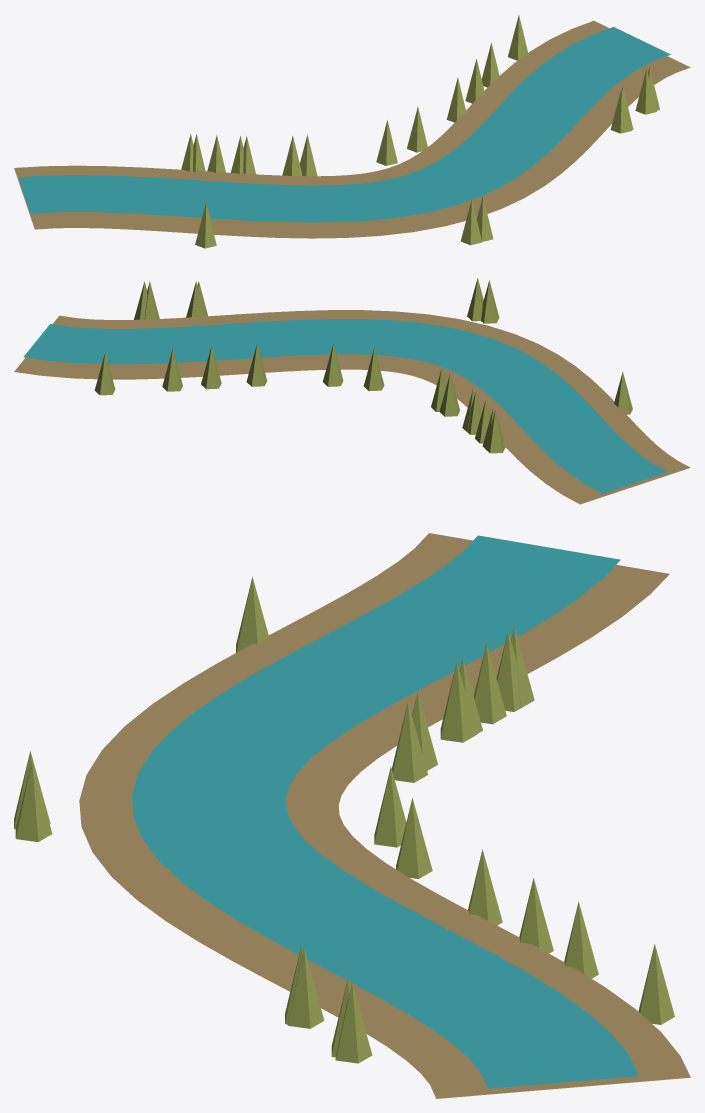
Rendered from FEATURE_FLOODPLAINS_PLAINS_v02.fbx.
3 views of the same model, one above another, from view 1: azimuth 30°, elevation 25°; view 2: azimuth 150°, elevation 25°; view 3: azimuth 270°, elevation 25° (orthographic). The views are drawn at different scales.
Visible parts, largest first — view 1: River_channel.008, Alluvial_banks.008, Riparian_grass.160, Riparian_grass.162, Riparian_grass.163, Riparian_grass.166, Riparian_grass.170, Riparian_grass.169, Riparian_grass.176, Riparian_grass.167, Riparian_grass.173, Riparian_grass.172 (+4 smaller); view 2: River_channel.008, Alluvial_banks.008, Riparian_grass.176, Riparian_grass.161, Riparian_grass.169, Riparian_grass.167, Riparian_grass.172, Riparian_grass.173, Riparian_grass.170, Riparian_grass.164, Riparian_grass.162, Riparian_grass.175 (+2 smaller); view 3: River_channel.008, Alluvial_banks.008, Riparian_grass.175, Riparian_grass.171, Riparian_grass.165, Riparian_grass.168, Riparian_grass.169, Riparian_grass.174, Riparian_grass.176, Riparian_grass.170, Riparian_grass.177, Riparian_grass.172 (+5 smaller).
Boxes of the visible parts, left/top/right/bottom form: River_channel.008: left=18, top=27, right=670, bottom=222; Alluvial_banks.008: left=14, top=21, right=690, bottom=238; Riparian_grass.160: left=610, top=87, right=632, bottom=133; Riparian_grass.162: left=460, top=199, right=482, bottom=245; Riparian_grass.163: left=635, top=69, right=656, bottom=114; Riparian_grass.166: left=195, top=203, right=216, bottom=248; Riparian_grass.170: left=376, top=120, right=397, bottom=165; Riparian_grass.169: left=407, top=107, right=427, bottom=152; Riparian_grass.176: left=508, top=15, right=527, bottom=60; Riparian_grass.167: left=446, top=77, right=466, bottom=122; Riparian_grass.173: left=465, top=59, right=485, bottom=103; Riparian_grass.172: left=481, top=42, right=499, bottom=87; River_channel.008: left=23, top=319, right=667, bottom=493; Alluvial_banks.008: left=14, top=310, right=690, bottom=504; Riparian_grass.176: left=94, top=352, right=115, bottom=395; Riparian_grass.161: left=439, top=373, right=459, bottom=416; Riparian_grass.169: left=323, top=343, right=343, bottom=386; Riparian_grass.167: left=246, top=343, right=267, bottom=386; Riparian_grass.172: left=162, top=348, right=182, bottom=391; Riparian_grass.173: left=201, top=346, right=221, bottom=389; Riparian_grass.170: left=363, top=348, right=384, bottom=391; Riparian_grass.164: left=484, top=410, right=505, bottom=453; Riparian_grass.162: left=481, top=280, right=499, bottom=323; Riparian_grass.175: left=467, top=278, right=483, bottom=321; River_channel.008: left=132, top=535, right=638, bottom=1088; Alluvial_banks.008: left=79, top=533, right=690, bottom=1098; Riparian_grass.175: left=15, top=761, right=52, bottom=841; Riparian_grass.171: left=440, top=662, right=476, bottom=742; Riparian_grass.165: left=392, top=702, right=427, bottom=782; Riparian_grass.168: left=335, top=982, right=372, bottom=1063; Riparian_grass.169: left=396, top=798, right=432, bottom=878; Riparian_grass.174: left=287, top=947, right=324, bottom=1028; Riparian_grass.176: left=638, top=944, right=674, bottom=1024; Riparian_grass.170: left=374, top=766, right=406, bottom=847; Riparian_grass.177: left=474, top=643, right=506, bottom=724; Riparian_grass.172: left=564, top=901, right=598, bottom=978.
Bounding box in the file's own units: 165 × 10 × 83.44.
